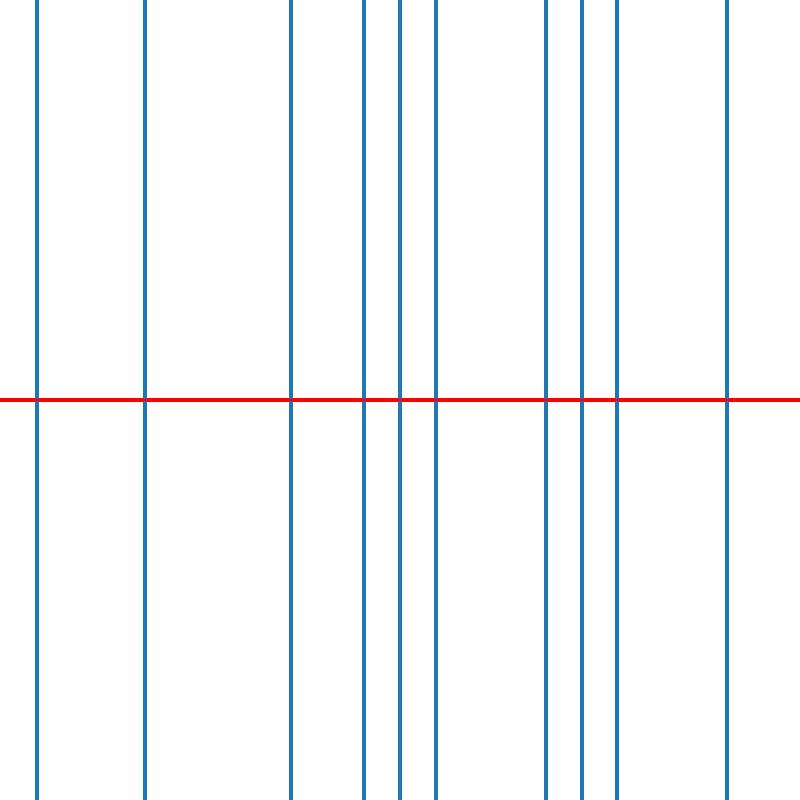root: (541, 396, 549, 404), (432, 396, 440, 404), (141, 396, 149, 404), (32, 396, 40, 404), (396, 396, 403, 404), (614, 396, 621, 404), (578, 396, 585, 404), (723, 396, 730, 404), (360, 396, 367, 404), (287, 396, 294, 404)
